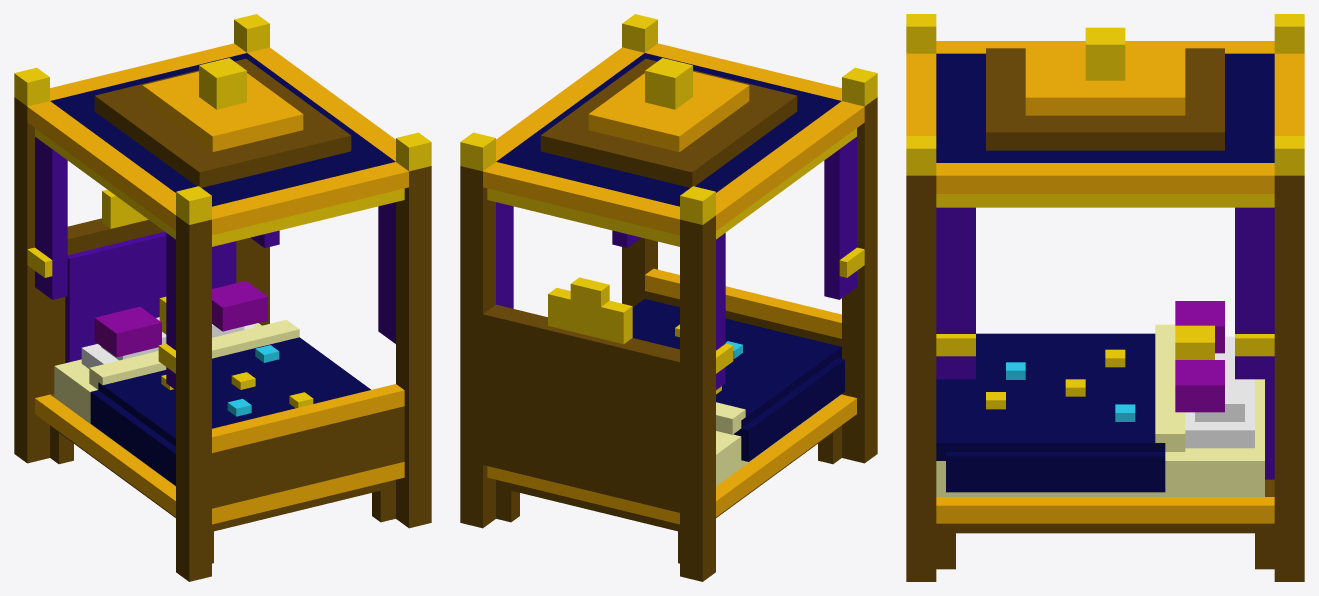
The model's file is sculpt_20261007T222149.obj.
The picture shows the model from 3 angles, left to right: view 1: azimuth 30°, elevation 25°; view 2: azimuth 150°, elevation 25°; view 3: azimuth 270°, elevation 25°; orthographic projection. The views are drawn at different scales.
Size of the model in its own units: 32 by 53 by 40.
